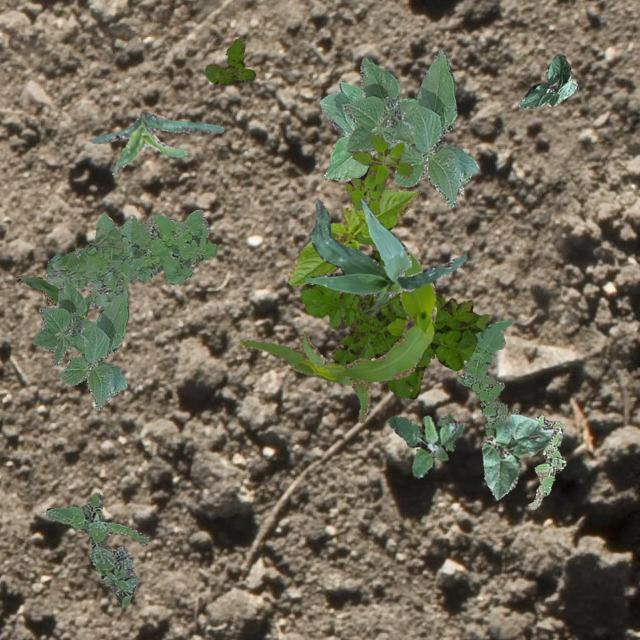crop: (238, 233, 436, 422), (342, 48, 478, 206), (304, 197, 466, 316), (32, 276, 128, 409), (287, 186, 417, 284), (318, 80, 416, 180), (91, 111, 222, 170), (480, 414, 552, 498), (15, 274, 90, 324), (518, 54, 578, 108)
weed: (300, 248, 488, 398), (44, 208, 216, 308), (44, 492, 148, 606), (458, 318, 518, 434), (344, 134, 412, 214), (386, 412, 464, 478), (526, 414, 564, 508), (203, 36, 254, 84)
